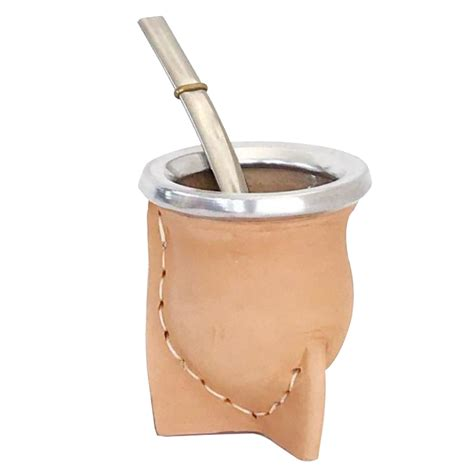cuero: (142, 197, 359, 462)
